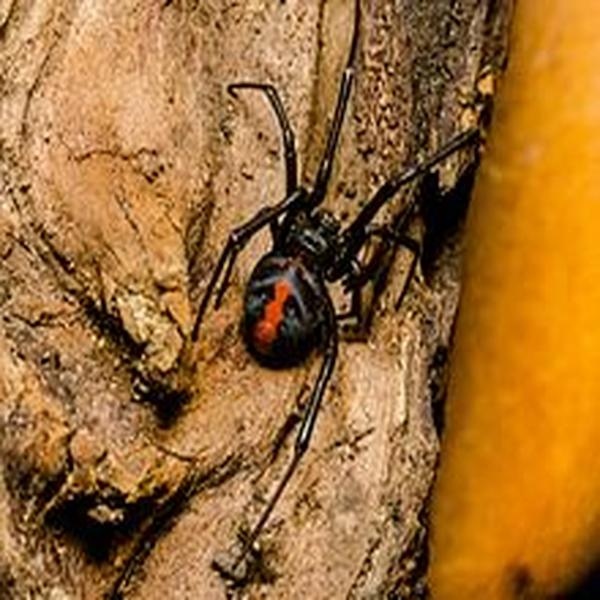Redback Spider: (209, 7, 476, 503)
